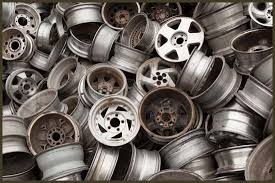metal: (135, 82, 200, 145), (86, 92, 139, 152), (150, 13, 212, 64), (22, 111, 91, 154), (156, 124, 216, 171), (226, 23, 275, 77), (205, 104, 260, 152), (30, 140, 92, 181), (15, 86, 76, 125), (234, 71, 275, 123), (175, 43, 215, 95), (82, 63, 131, 103), (121, 8, 163, 52), (85, 18, 123, 63), (2, 1, 42, 38), (62, 26, 99, 61), (1, 25, 34, 63)
